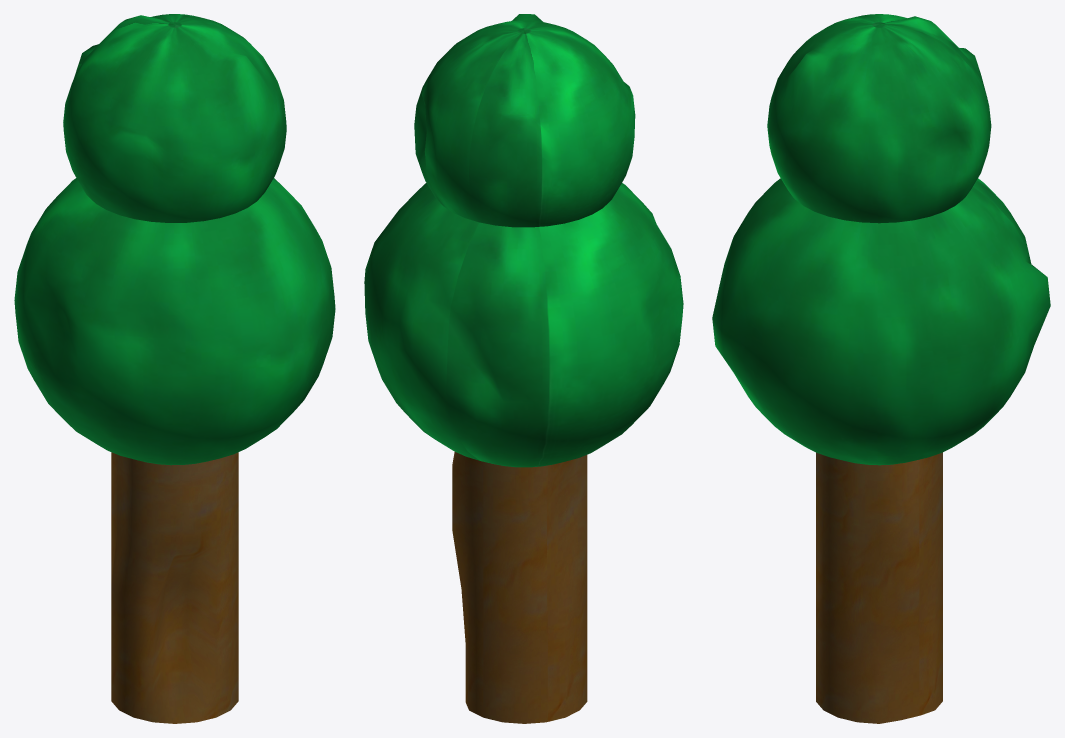
Rendered from arvore3.FBX.
3 views of the same model, side by side, from view 1: azimuth 30°, elevation 25°; view 2: azimuth 150°, elevation 25°; view 3: azimuth 270°, elevation 25° (orthographic).
Visible parts, largest first — view 1: Sphere001; view 2: Sphere001; view 3: Sphere001.
Boxes of the visible parts, box(x1,y1,x2,y2) form: Sphere001: box(14, 14, 335, 723); Sphere001: box(364, 14, 683, 723); Sphere001: box(712, 14, 1050, 723).
Size of the model in its own units: 21.26 by 49.5 by 22.59.
Materials: 2 (2 with a texture image).
